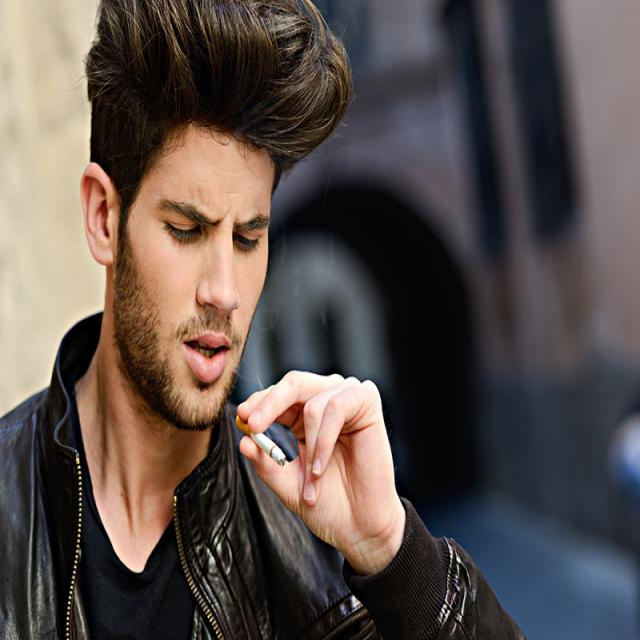smoking: (236, 412, 284, 468)
